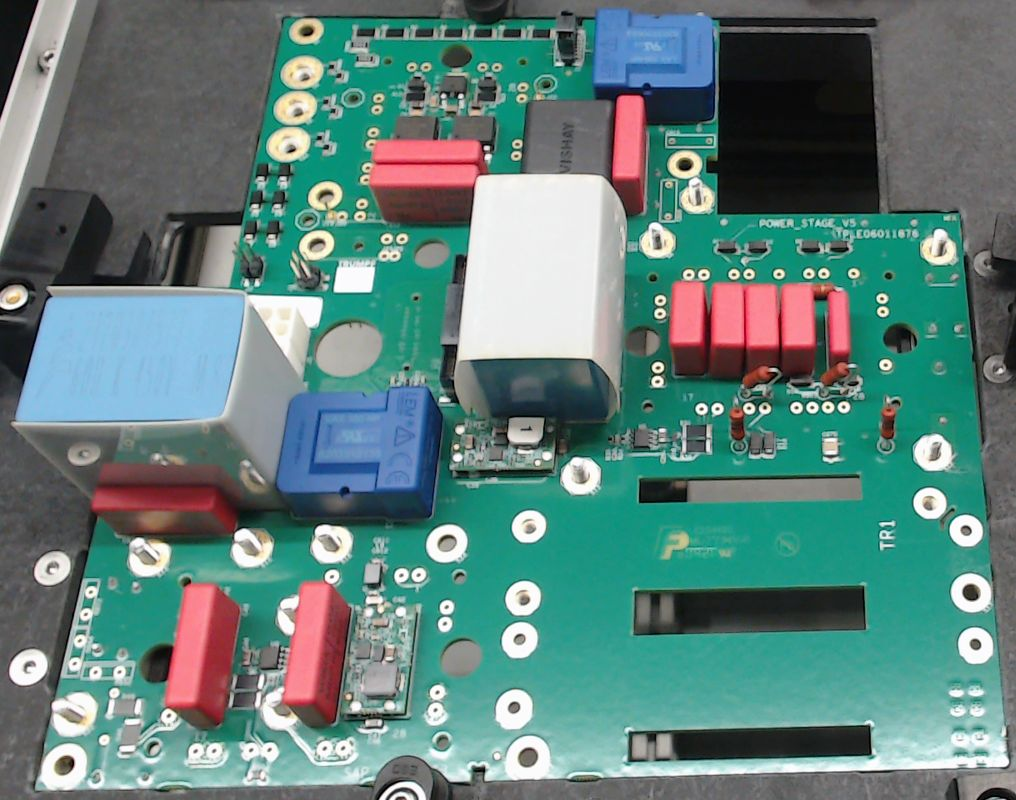comp1: (274, 385, 443, 516), (593, 9, 715, 122)
comp2: (163, 585, 242, 728), (285, 581, 351, 728), (90, 484, 239, 537), (368, 165, 480, 221), (744, 279, 782, 384), (614, 94, 647, 214), (669, 280, 708, 375), (708, 281, 744, 376), (780, 282, 816, 377), (368, 137, 486, 162), (823, 291, 850, 370)
comp3: (521, 98, 614, 177)
comp4: (9, 285, 310, 512), (454, 174, 628, 421)
